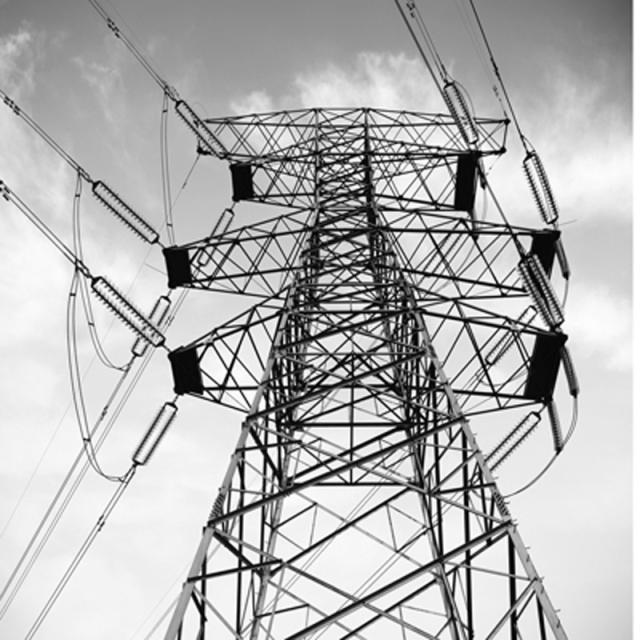non-critical vegetation: (174, 86, 577, 588)
